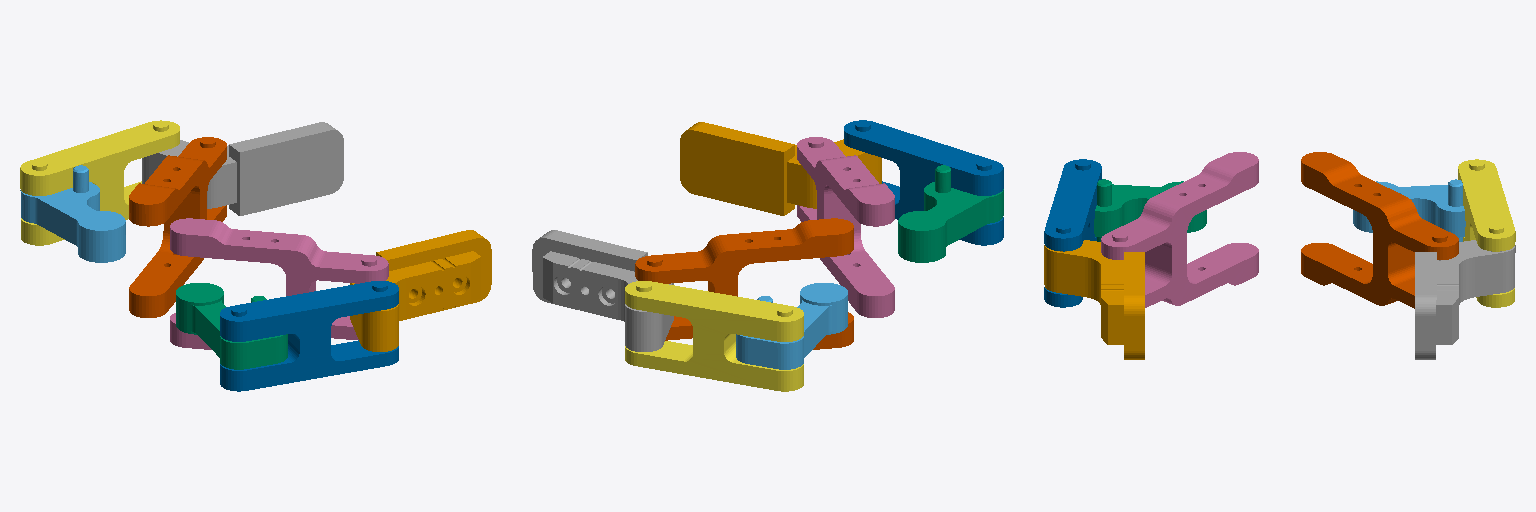
URDF robot description (robotiq_85_gripper):
<?xml version="1.0"?>

<robot name="robotiq_85_gripper">
  <!-- control -->
  <!-- <joint name="dummy_center_fixed_joint" type="fixed">
    <parent link="dummy_center_indicator_link"/>
    <child link="robotiq_85_base_link"/>
    <origin xyz="-0.137 0 0" />
  </joint> -->

  <!-- robot -->
    <link name="robotiq_85_base_link">
      <visual>
        <geometry>
          <mesh filename="package://robotiq_85/meshes/visual/robotiq_85_base_link.stl"/>
        </geometry>
      </visual>
      <collision>
        <geometry>
          <mesh filename="package://robotiq_85/meshes/collision/robotiq_85_base_link.stl"/>
          <!-- <mesh filename="package://robotiq_85/meshes/collision/robotiq_85_base_link.stl"/> -->
        </geometry>
      </collision>
    </link>

    <joint name="robotiq_85_left_knuckle_joint" type="revolute">
      <parent link="robotiq_85_base_link"/>
      <child link="robotiq_85_left_knuckle_link"/>
      <axis xyz="0 0 1"/>
      <origin rpy="3.14 0.0 0.0" xyz="0.05490451627 0.03060114443 0.0"/>
      <limit lower="0.0" upper="0.80285" velocity="3.14" effort="1000"/>
    </joint>

    <joint name="robotiq_85_right_knuckle_joint" type="revolute">
      <parent link="robotiq_85_base_link"/>
      <child link="robotiq_85_right_knuckle_link"/>
      <axis xyz="0 0 1"/>
      <origin rpy="0.0 0.0 0.0" xyz="0.05490451627 -0.03060114443 0.0"/>
      <limit lower="-3.14" upper="3.14" velocity="3.14" effort="1000"/>
      <mimic joint="robotiq_85_left_knuckle_joint"/>
    </joint>

    <link name="robotiq_85_left_knuckle_link">
      <visual>
        <geometry>
          <mesh filename="package://robotiq_85/meshes/visual/robotiq_85_knuckle_link.obj"/>
        </geometry>
      </visual>
      <collision>
        <geometry>
          <mesh filename="package://robotiq_85/meshes/collision/robotiq_85_knuckle_link.stl"/>
        </geometry>
      </collision>
    </link>

    <link name="robotiq_85_right_knuckle_link">
      <visual>
        <geometry>
          <mesh filename="package://robotiq_85/meshes/visual/robotiq_85_knuckle_link.obj"/>
        </geometry>
      </visual>
      <collision>
        <geometry>
          <mesh filename="package://robotiq_85/meshes/collision/robotiq_85_knuckle_link.stl"/>
        </geometry>
      </collision>
    </link>

    <joint name="robotiq_85_left_finger_joint" type="fixed">
      <parent link="robotiq_85_left_knuckle_link"/>
      <child link="robotiq_85_left_finger_link"/>
      <origin xyz="-0.00408552455 -0.03148604435 0.0" rpy="0 0 0" />
    </joint>

    <joint name="robotiq_85_right_finger_joint" type="fixed">
      <parent link="robotiq_85_right_knuckle_link"/>
      <child link="robotiq_85_right_finger_link"/>
      <origin xyz="-0.00408552455 -0.03148604435 0.0" rpy="0 0 0" />
    </joint>

    <link name="robotiq_85_left_finger_link">
      <visual>
        <geometry>
          <mesh filename="package://robotiq_85/meshes/visual/robotiq_85_finger_link.obj"/>
        </geometry>
      </visual>
      <collision>
        <geometry>
          <mesh filename="package://robotiq_85/meshes/collision/robotiq_85_finger_link.stl"/>
        </geometry>
      </collision>
    </link>

    <link name="robotiq_85_right_finger_link">
      <visual>
        <geometry>
          <mesh filename="package://robotiq_85/meshes/visual/robotiq_85_finger_link.obj"/>
        </geometry>
      </visual>
      <collision>
        <geometry>
          <mesh filename="package://robotiq_85/meshes/collision/robotiq_85_finger_link.stl"/>
        </geometry>
      </collision>
    </link>

    <joint name="robotiq_85_left_inner_knuckle_joint" type="revolute">
      <parent link="robotiq_85_base_link"/>
      <child link="robotiq_85_left_inner_knuckle_link"/>
      <axis xyz="0 0 1"/>
      <origin xyz="0.06142 0.0127 0" rpy="3.14 0.0 0.0" />
      <limit lower="-3.14" upper="3.14" velocity="3.14" effort="0.1"/>
      <mimic joint="robotiq_85_left_knuckle_joint" offset="0"/>
    </joint>

    <joint name="robotiq_85_right_inner_knuckle_joint" type="revolute">
      <parent link="robotiq_85_base_link"/>
      <child link="robotiq_85_right_inner_knuckle_link"/>
      <axis xyz="0 0 1"/>
      <origin xyz="0.06142 -0.0127 0" rpy="0 0 0"/>
      <limit lower="-3.14" upper="3.14" velocity="3.14" effort="0.1"/>
      <mimic joint="robotiq_85_left_knuckle_joint" offset="0"/>
    </joint>

    <link name="robotiq_85_left_inner_knuckle_link">
      <visual>
        <geometry>
          <mesh filename="package://robotiq_85/meshes/visual/robotiq_85_inner_knuckle_link.obj"/>
        </geometry>
      </visual>
      <collision>
        <geometry>
          <mesh filename="package://robotiq_85/meshes/collision/robotiq_85_inner_knuckle_link.stl"/>
        </geometry>
      </collision>
    </link>
    <link name="robotiq_85_right_inner_knuckle_link">
      <visual>
        <geometry>
          <mesh filename="package://robotiq_85/meshes/visual/robotiq_85_inner_knuckle_link.obj"/>
        </geometry>
      </visual>
      <collision>
        <geometry>
          <mesh filename="package://robotiq_85/meshes/collision/robotiq_85_inner_knuckle_link.stl"/>
        </geometry>
      </collision>
    </link>

    <joint name="robotiq_85_left_finger_tip_joint" type="revolute">
      <parent link="robotiq_85_left_inner_knuckle_link"/>
      <child link="robotiq_85_left_finger_tip_link"/>
      <axis xyz="0 0 1"/>
      <origin xyz="0.04303959807 -0.03759940821 0.0" rpy="0.0 0.0 0.0"/>
      <limit lower="-3.14" upper="3.14" velocity="3.14" effort="0.1"/>
      <mimic joint="robotiq_85_left_knuckle_joint" multiplier="-1"/>
    </joint>

    <joint name="robotiq_85_right_finger_tip_joint" type="revolute">
      <parent link="robotiq_85_right_inner_knuckle_link"/>
      <child link="robotiq_85_right_finger_tip_link"/>
      <axis xyz="0 0 1"/>
      <origin rpy="0.0 0.0 0.0" xyz="0.04303959807 -0.03759940821  0.0"/>
      <limit lower="-3.14" upper="3.14" velocity="3.14" effort="0.1"/>
      <mimic joint="robotiq_85_left_knuckle_joint" multiplier="-1"/>
    </joint>

    <link name="robotiq_85_left_finger_tip_link">
      <visual>
        <geometry>
          <mesh filename="package://robotiq_85/meshes/visual/robotiq_85_finger_tip_link.obj"/>
        </geometry>
      </visual>
      <collision>
        <geometry>
          <mesh filename="package://robotiq_85/meshes/collision/robotiq_85_finger_tip_link.stl"/>
        </geometry>
      </collision>
    </link>

    <link name="robotiq_85_right_finger_tip_link">
      <visual>
        <geometry>
          <mesh filename="package://robotiq_85/meshes/visual/robotiq_85_finger_tip_link.obj"/>
        </geometry>
      </visual>
      <collision>
        <geometry>
          <mesh filename="package://robotiq_85/meshes/collision/robotiq_85_finger_tip_link.stl"/>
        </geometry>
      </collision>
    </link>

    <link name="robotiq_85_left_finger_center_link"/>
    <joint name="robotiq_85_left_finger_center_joint" type="fixed">
      <origin rpy="0 0 0" xyz="0.02325 0.0078 0"/>
      <parent link="robotiq_85_right_finger_tip_link"/>
      <child link="robotiq_85_left_finger_center_link"/>
    </joint>

    <!-- * bar grasp TCP -->
    <link name="robotiq_85_mount"/>
    <joint name="mount" type="fixed">
      <parent link="robotiq_85_mount"/>
      <child link="robotiq_85_base_link"/>
      <origin rpy="0.0 0.0 0" xyz="0.0 0.0 0.0"/>
      <!-- <origin rpy="0.0 0.0 1.5707963267948966" xyz="0.0 0.0 0.0"/> -->
      <!-- <origin rpy="0.0 -1.5707963267948966 1.5707963267948966" xyz="0.0 0.0 0.0"/> -->
    </joint>

    <link name="central_tcp"/>
    <joint name="tool0-central_tcp_fixed_joint" type="fixed">
      <origin rpy="0 0 0.0" xyz="0.138 0 0"/>
      <parent link="robotiq_85_mount"/>
      <child link="central_tcp"/>
    </joint>

   <!-- <link name="world"/>
   <joint name="world_joint" type="fixed">
     <parent link="world"/>
     <child link="robotiq_85_mount"/>
     <origin rpy="0.0 0.0 0" xyz="0.0 0.0 0.0"/>
   </joint> -->

</robot>

--- Facts derived from the render (not from the file) ---
Views: 3 orthographic renders of the robot side by side, from view 1: azimuth 30°, elevation 25°; view 2: azimuth 150°, elevation 25°; view 3: azimuth 270°, elevation 25°.
Model robotiq_85_gripper with 12 links and 11 joints (6 revolute, 5 fixed), rooted at robotiq_85_mount, posed all joints at 0.
Links seen in each view (by area): view 1: robotiq_85_right_finger_link, robotiq_85_left_finger_tip_link, robotiq_85_left_inner_knuckle_link, robotiq_85_right_inner_knuckle_link, robotiq_85_right_finger_tip_link, robotiq_85_left_finger_link, robotiq_85_left_knuckle_link, robotiq_85_right_knuckle_link; view 2: robotiq_85_left_finger_link, robotiq_85_right_finger_tip_link, robotiq_85_right_inner_knuckle_link, robotiq_85_left_inner_knuckle_link, robotiq_85_left_finger_tip_link, robotiq_85_right_finger_link, robotiq_85_right_knuckle_link, robotiq_85_left_knuckle_link; view 3: robotiq_85_right_inner_knuckle_link, robotiq_85_left_inner_knuckle_link, robotiq_85_right_finger_tip_link, robotiq_85_left_finger_tip_link, robotiq_85_right_finger_link, robotiq_85_left_finger_link, robotiq_85_right_knuckle_link, robotiq_85_left_knuckle_link.
Boxes of the visible links, left/top/right/bottom form: robotiq_85_right_finger_link: left=220, top=281, right=398, bottom=391; robotiq_85_left_finger_tip_link: left=142, top=122, right=343, bottom=215; robotiq_85_left_inner_knuckle_link: left=129, top=137, right=226, bottom=317; robotiq_85_right_inner_knuckle_link: left=170, top=218, right=388, bottom=349; robotiq_85_right_finger_tip_link: left=350, top=230, right=491, bottom=351; robotiq_85_left_finger_link: left=20, top=120, right=179, bottom=245; robotiq_85_left_knuckle_link: left=20, top=165, right=125, bottom=262; robotiq_85_right_knuckle_link: left=176, top=283, right=287, bottom=369; robotiq_85_left_finger_link: left=625, top=281, right=803, bottom=391; robotiq_85_right_finger_tip_link: left=680, top=122, right=881, bottom=215; robotiq_85_right_inner_knuckle_link: left=797, top=137, right=894, bottom=317; robotiq_85_left_inner_knuckle_link: left=635, top=218, right=853, bottom=349; robotiq_85_left_finger_tip_link: left=532, top=230, right=673, bottom=351; robotiq_85_right_finger_link: left=844, top=120, right=1003, bottom=245; robotiq_85_right_knuckle_link: left=898, top=165, right=1003, bottom=262; robotiq_85_left_knuckle_link: left=736, top=283, right=847, bottom=369; robotiq_85_right_inner_knuckle_link: left=1101, top=152, right=1258, bottom=307; robotiq_85_left_inner_knuckle_link: left=1301, top=152, right=1458, bottom=308; robotiq_85_right_finger_tip_link: left=1044, top=240, right=1144, bottom=359; robotiq_85_left_finger_tip_link: left=1415, top=240, right=1515, bottom=359; robotiq_85_right_finger_link: left=1044, top=159, right=1101, bottom=307; robotiq_85_left_finger_link: left=1458, top=159, right=1515, bottom=307; robotiq_85_right_knuckle_link: left=1094, top=179, right=1206, bottom=241; robotiq_85_left_knuckle_link: left=1353, top=179, right=1465, bottom=241.
Bounding box of the posed robot: 0.1041 × 0.1484 × 0.039 m (x, y, z).
8 mesh visuals loaded from 5 distinct referenced files (4 OBJ); not drawn: 1 (reference not matched to a file when rendering).